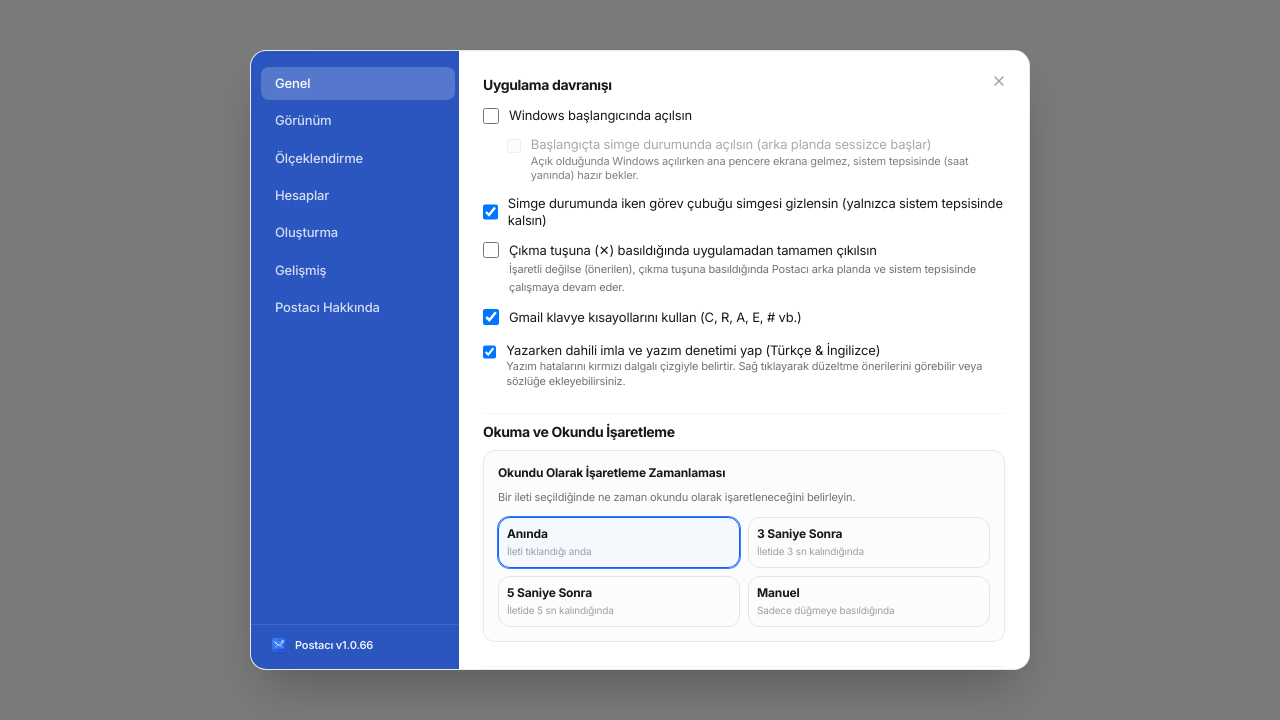
SettingsModal — sekme yüzeyi › hesaplar sekmesi hesap listesini ve rozetleri gösterir
The width and height of the screenshot is (1280, 720).
Click the button "Hesaplar" at (358, 196), box [261, 179, 455, 212]
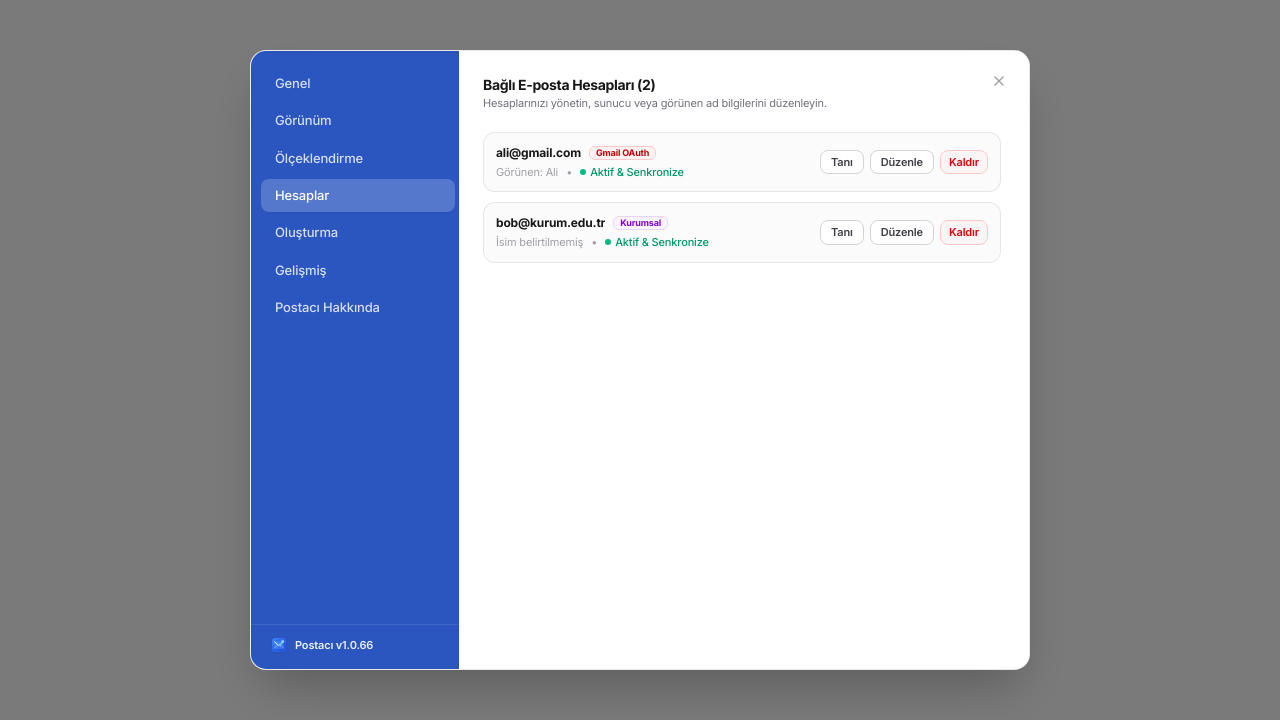
Expected: the text "ali@gmail.com" is shown, [496, 144, 581, 160]
Expected: the text "bob@kurum.edu.tr" is shown, [496, 215, 605, 231]
Expected: the text "Gmail OAuth" is shown once, [589, 146, 656, 160]
